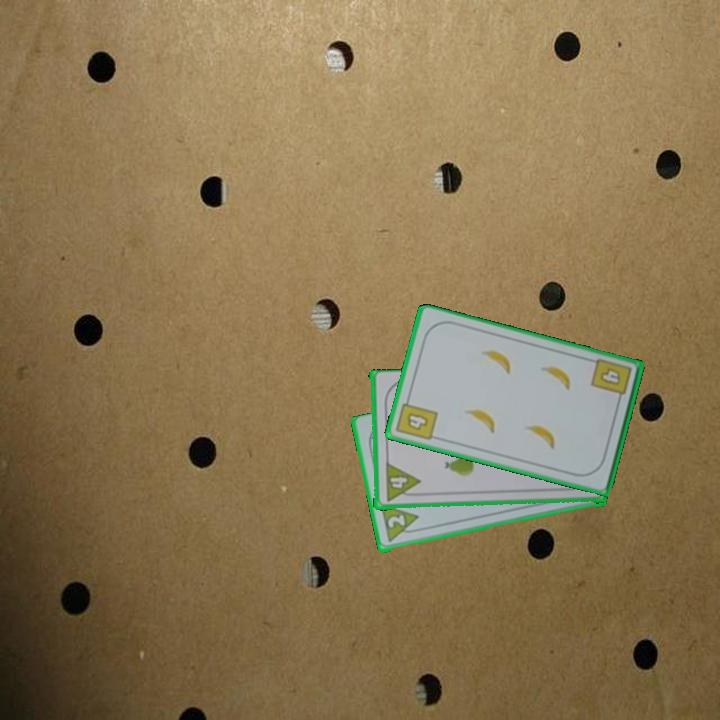2p: (384, 511, 408, 531)
4b: (587, 355, 634, 406), (393, 393, 440, 443)
4p: (381, 460, 422, 505)
